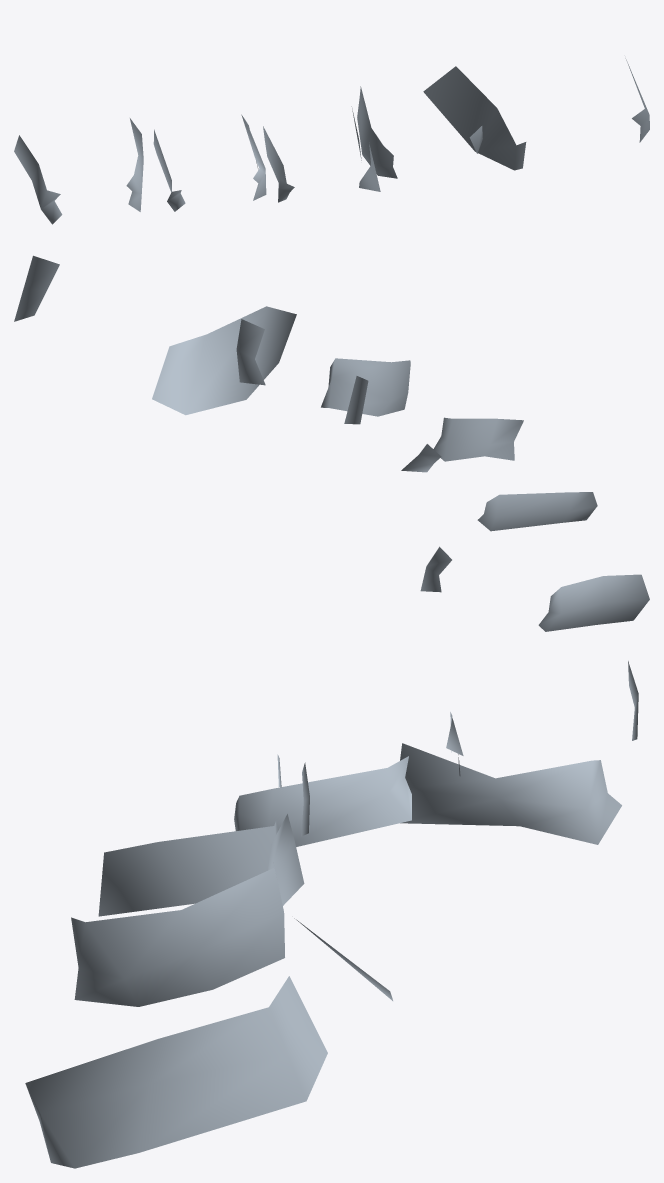
Rendered from collateral-metatarsophalangeal-ligaments-r.glb.
3 views of the same model, one above another, from view 1: azimuth 30°, elevation 25°; view 2: azimuth 150°, elevation 25°; view 3: azimuth 270°, elevation 25° (orthographic). The views are drawn at different scales.
Visible parts, largest first — view 1: Collateral metatarsophalangeal ligaments.r; view 2: Collateral metatarsophalangeal ligaments.r; view 3: Collateral metatarsophalangeal ligaments.r.
Part boxes in pixels (x1,y1,x2,y2): Collateral metatarsophalangeal ligaments.r: (14,58,649,224); Collateral metatarsophalangeal ligaments.r: (14,255,649,631); Collateral metatarsophalangeal ligaments.r: (25,661,638,1168).
Bounding box in the file's own units: 0.0827 × 0.019 × 0.0424.
